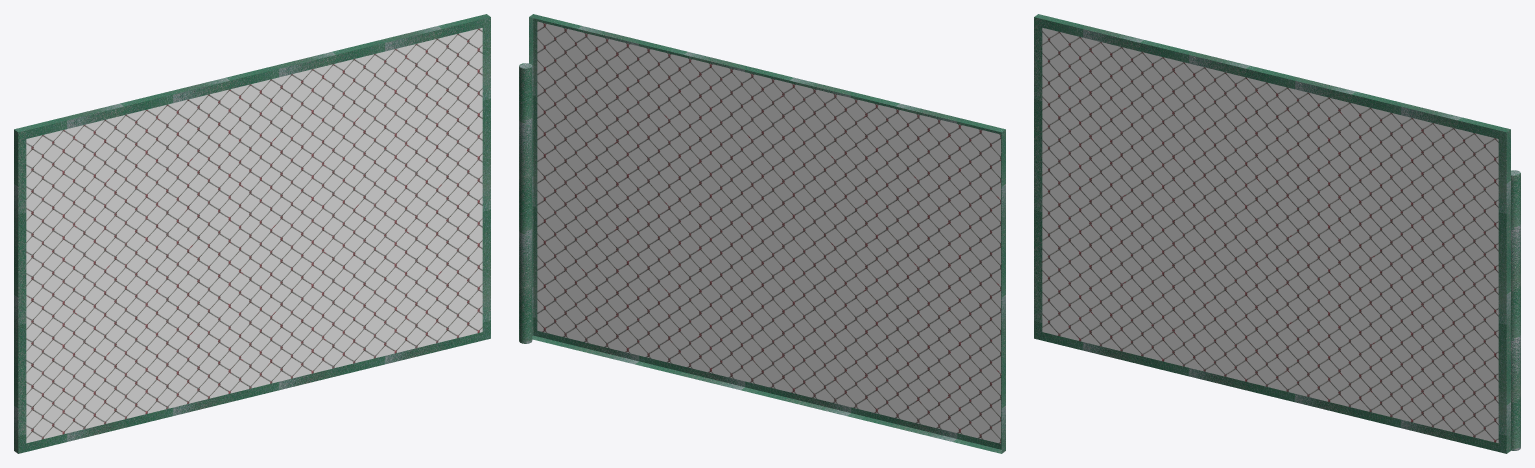
File: fence.glb
The picture shows the model from 3 angles, left to right: view 1: azimuth 30°, elevation 25°; view 2: azimuth 150°, elevation 25°; view 3: azimuth 330°, elevation 25°; orthographic projection.
Parts seen in each view (by area): view 1: Плоскость; view 2: Плоскость; view 3: Плоскость.
Part boxes in pixels (x1,y1,x2,y2): Плоскость: [14, 14, 490, 453]; Плоскость: [519, 14, 1005, 453]; Плоскость: [1034, 14, 1520, 453].
Size of the model in its own units: 2.02 by 1.3 by 0.0807.
Materials: 2 (2 with a texture image).
